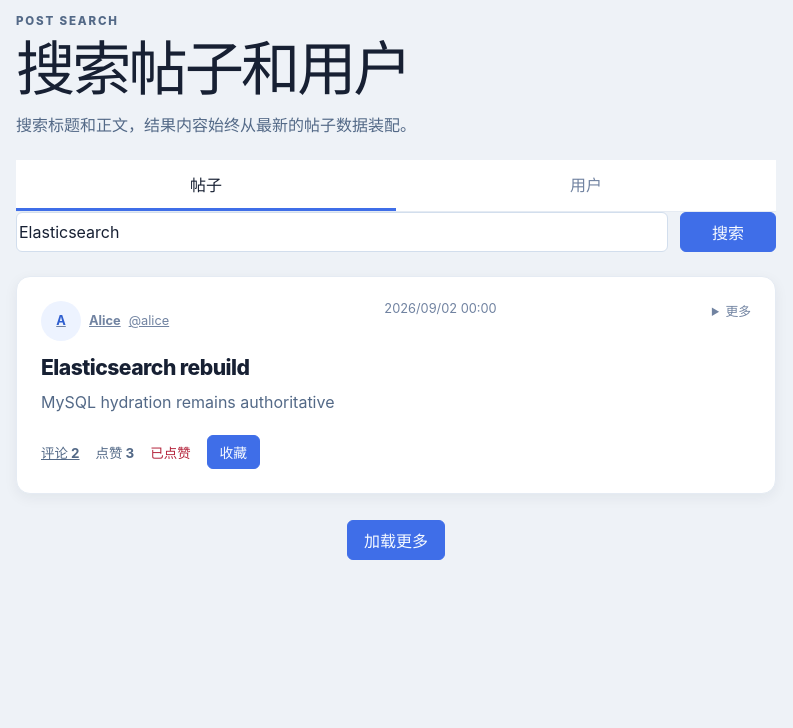
Test: SearchView › restores the URL query, renders validated posts, and loads the next page
The width and height of the screenshot is (793, 728).
Expected: the field named "q" holds "Elasticsearch", [16, 212, 668, 252]
Click the button "加载更多" at [396, 540], box [347, 520, 445, 560]
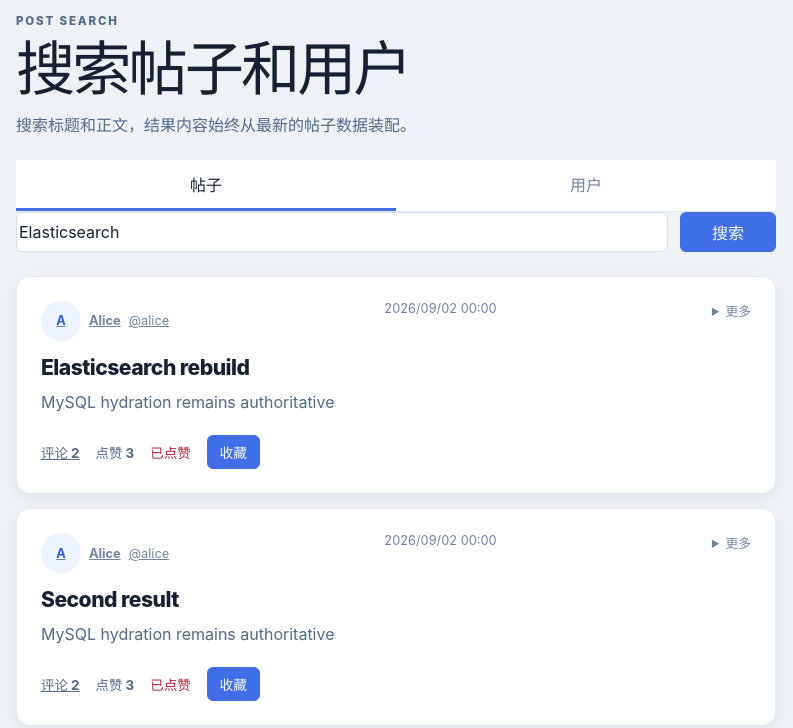
Now the text "Second result" is shown, box [41, 587, 179, 612]
